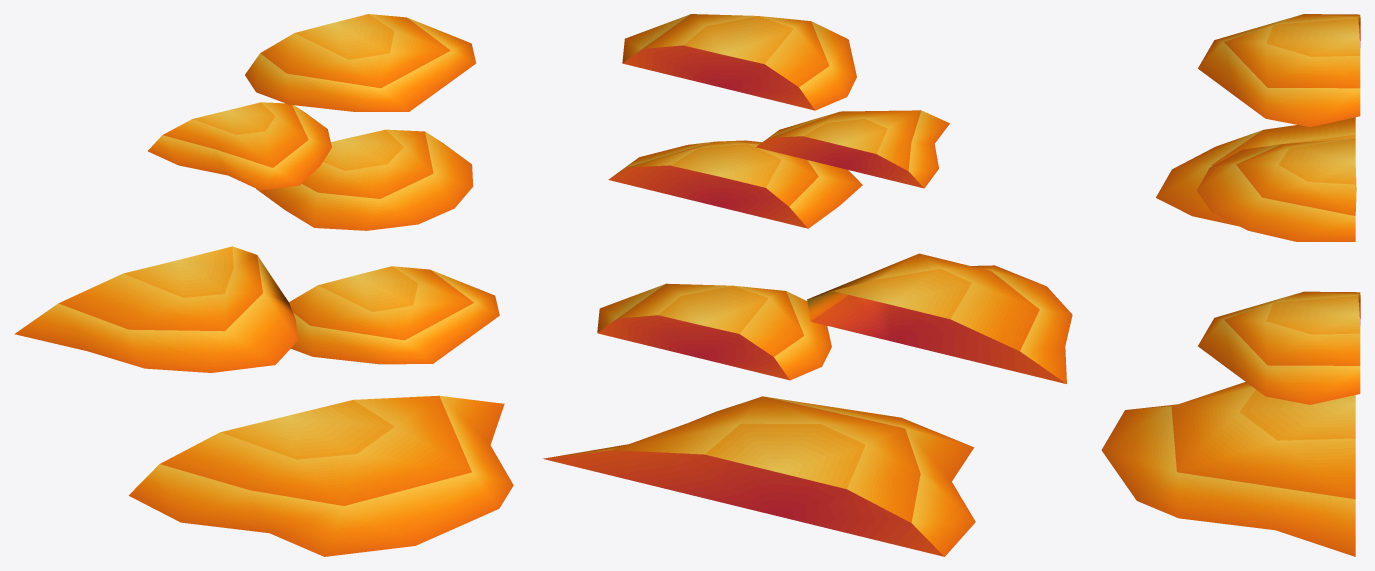
Rendered from Mushroom_5B.fbx.
3 views of the same model, side by side, from view 1: azimuth 30°, elevation 25°; view 2: azimuth 150°, elevation 25°; view 3: azimuth 270°, elevation 25° (orthographic). The views are drawn at different scales.
Parts seen in each view (by area): view 1: Mushroom_5B; view 2: Mushroom_5B; view 3: Mushroom_5B.
Boxes of the visible parts, x1,y1,x2,y2 form: Mushroom_5B: [14, 14, 513, 556]; Mushroom_5B: [542, 14, 1072, 556]; Mushroom_5B: [1101, 14, 1360, 556].
Bounding box in the file's own units: 1.16 × 0.9525 × 0.5157.
